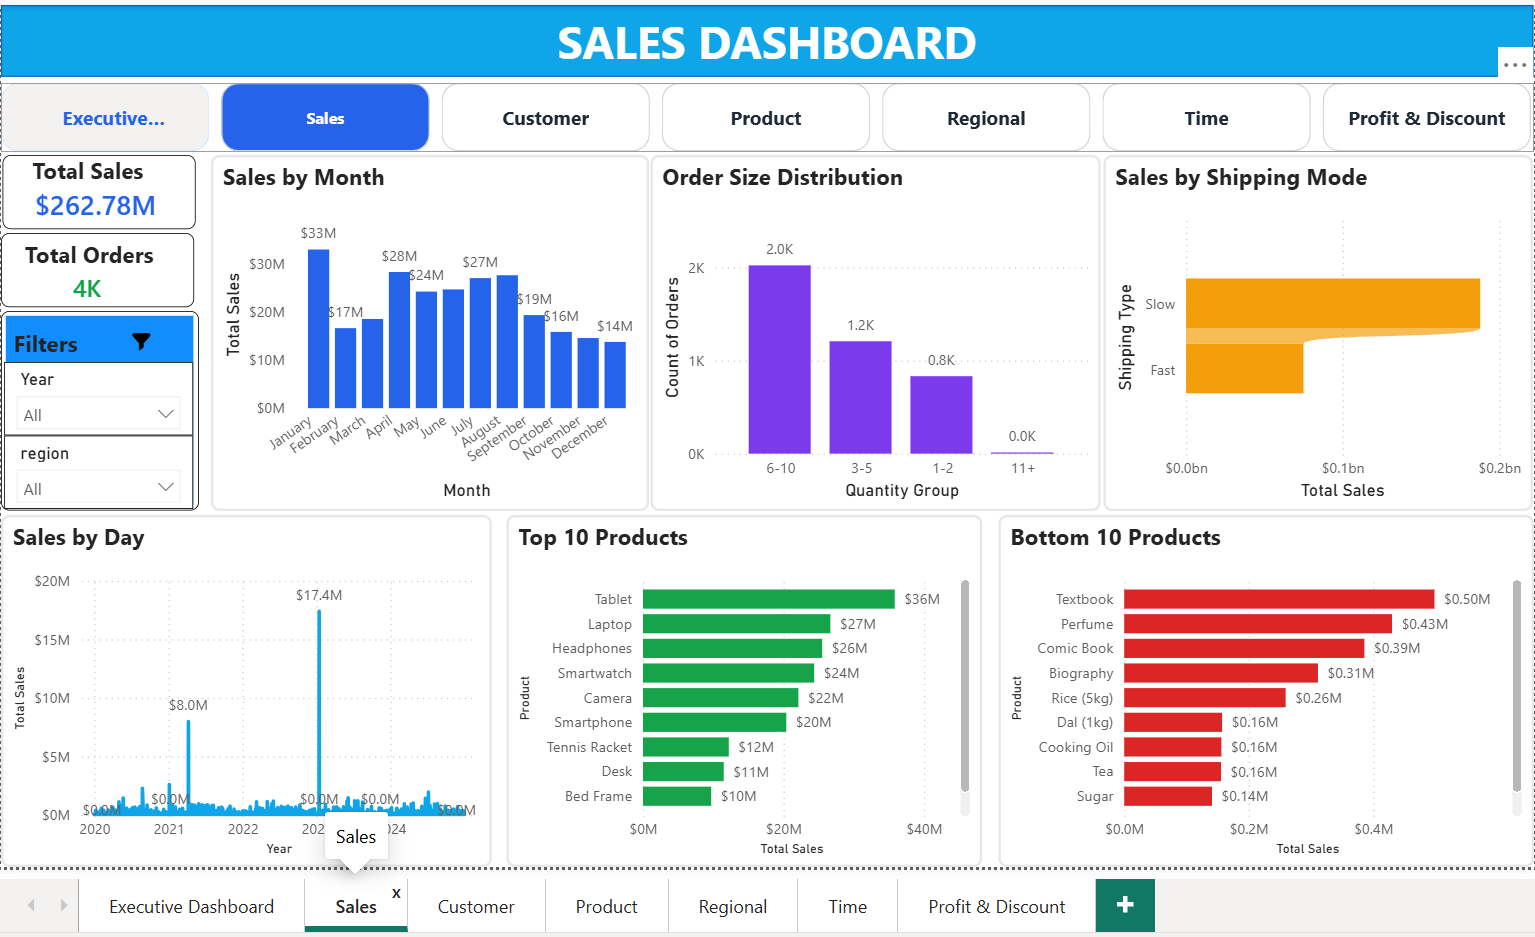

This screenshot's page, from the dashboard's own definition file:
{"tool":"powerbi","page":{"name":"Sales","canvas":[1280,720],"ordinal":1},"visuals":[{"type":"clusteredColumnChart","title":"Sales by Month","fields":{"Category":["DateTable.Month"],"Y":["Measures (2).Total Sales"]},"box":[175.7,125.7,365.7,297.1],"z":0},{"type":"lineChart","title":"Sales by Day","fields":{"Category":["DateTable.Date.Variation.Date Hierarchy.Year","DateTable.Date.Variation.Date Hierarchy.Quarter","DateTable.Date.Variation.Date Hierarchy.Month","DateTable.Date.Variation.Date Hierarchy.Day"],"Y":["Measures (2).Total Sales"]},"box":[0,425.7,410,294.3],"z":1000},{"type":"barChart","title":"Sales by Shipping Mode","fields":{"Category":["retail_sales_final.shipping_performance"],"Y":["Measures (2).Total Sales"]},"box":[921.4,125.7,358.6,297.1],"z":2000},{"type":"barChart","title":"Top 10 Products","fields":{"Category":["retail_sales_final.product_name"],"Y":["Measures (2).Total Sales"]},"box":[422.9,425.7,397.1,294.3],"z":3000},{"type":"clusteredBarChart","title":"Bottom 10 Products","fields":{"Category":["retail_sales_final.product_name"],"Y":["Measures (2).Total Sales"]},"box":[832.9,425.7,447.1,294.3],"z":4000},{"type":"clusteredColumnChart","title":"Order Size Distribution","fields":{"Category":["retail_sales_final.Quantity Group"],"Y":["CountNonNull(retail_sales_final.order_id)"]},"box":[542.9,125.7,375.7,297.1],"z":5000},{"type":"cardVisual","fields":{"Data":["Measures (2).Total Orders"]},"box":[44.3,214.3,56,42],"z":5500},{"type":"shape","box":[0,255.7,165,166.4],"z":5625},{"type":"shape","box":[0,190,161.4,62],"z":5750},{"type":"shape","box":[0,0,1280,60],"z":6000},{"type":"textbox","box":[436.7,0,405,60],"z":7000},{"type":"cardVisual","fields":{"Data":["Measures (2).Total Sales"]},"box":[2.9,142.9,153,45],"z":7500},{"type":"shape","box":[1.4,125.7,161.4,62],"z":8000},{"type":"slicer","fields":{"Values":["DateTable.Year"]},"box":[2.9,298.6,158,61],"z":9000},{"type":"slicer","fields":{"Values":["retail_sales_final.region"]},"box":[2.9,360,158,61],"z":11000},{"type":"textbox","box":[0,264.3,74.5,34.5],"z":14000},{"type":"image","box":[100,271.4,34,18],"z":15000},{"type":"textbox","box":[20,195.7,110,36.4],"z":16000},{"type":"textbox","box":[25.7,125.7,93,35],"z":17000},{"type":"pageNavigator","box":[0,65.7,1280,57.1],"z":19000}]}

Visuals, with their boxes on the page's 1280x720 design canvas (x1, y1, x2, y2). These are canvas units, not pixel positions in the 1535x937 screenshot, which may show the page scaled, cropped or inside an application window:
"Sales by Month" clusteredColumnChart: 176, 126, 541, 423
"Sales by Day" lineChart: 0, 426, 410, 720
"Sales by Shipping Mode" barChart: 921, 126, 1280, 423
"Top 10 Products" barChart: 423, 426, 820, 720
"Bottom 10 Products" clusteredBarChart: 833, 426, 1280, 720
"Order Size Distribution" clusteredColumnChart: 543, 126, 919, 423
cardVisual - Measures (2).Total Orders: 44, 214, 100, 256
shape: 0, 256, 165, 422
shape: 0, 190, 161, 252
shape: 0, 0, 1280, 60
textbox: 437, 0, 842, 60
cardVisual - Measures (2).Total Sales: 3, 143, 156, 188
shape: 1, 126, 163, 188
slicer - DateTable.Year: 3, 299, 161, 360
slicer - retail_sales_final.region: 3, 360, 161, 421
textbox: 0, 264, 74, 299
image: 100, 271, 134, 289
textbox: 20, 196, 130, 232
textbox: 26, 126, 119, 161
pageNavigator: 0, 66, 1280, 123
